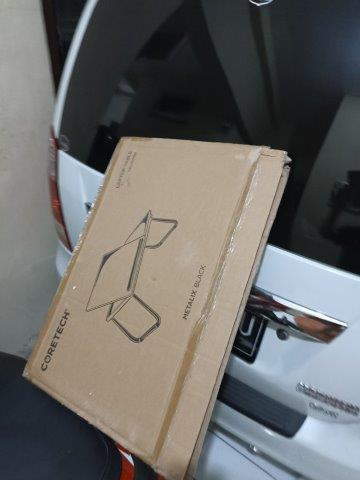kardus: (24, 138, 288, 480)
